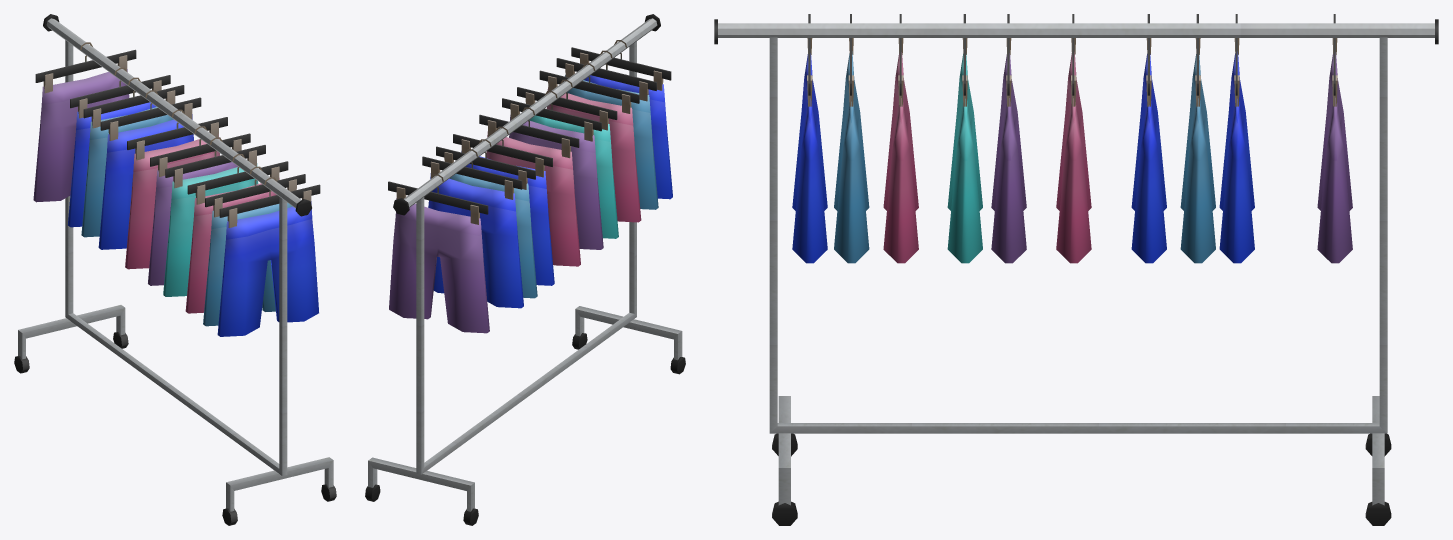
The model's file is Cloth_Rack_04.fbx.
3 views of the same model, side by side, from view 1: azimuth 30°, elevation 25°; view 2: azimuth 150°, elevation 25°; view 3: azimuth 270°, elevation 25° (orthographic). The views are drawn at different scales.
Parts seen in each view (by area): view 1: Cloth_Rack_04; view 2: Cloth_Rack_04; view 3: Cloth_Rack_04.
Part boxes in pixels (x1,y1,x2,y2): Cloth_Rack_04: (14, 14, 336, 525); Cloth_Rack_04: (365, 14, 685, 525); Cloth_Rack_04: (714, 14, 1438, 525).
Bounding box in the file's own units: 0.1637 × 0.4893 × 0.683.
